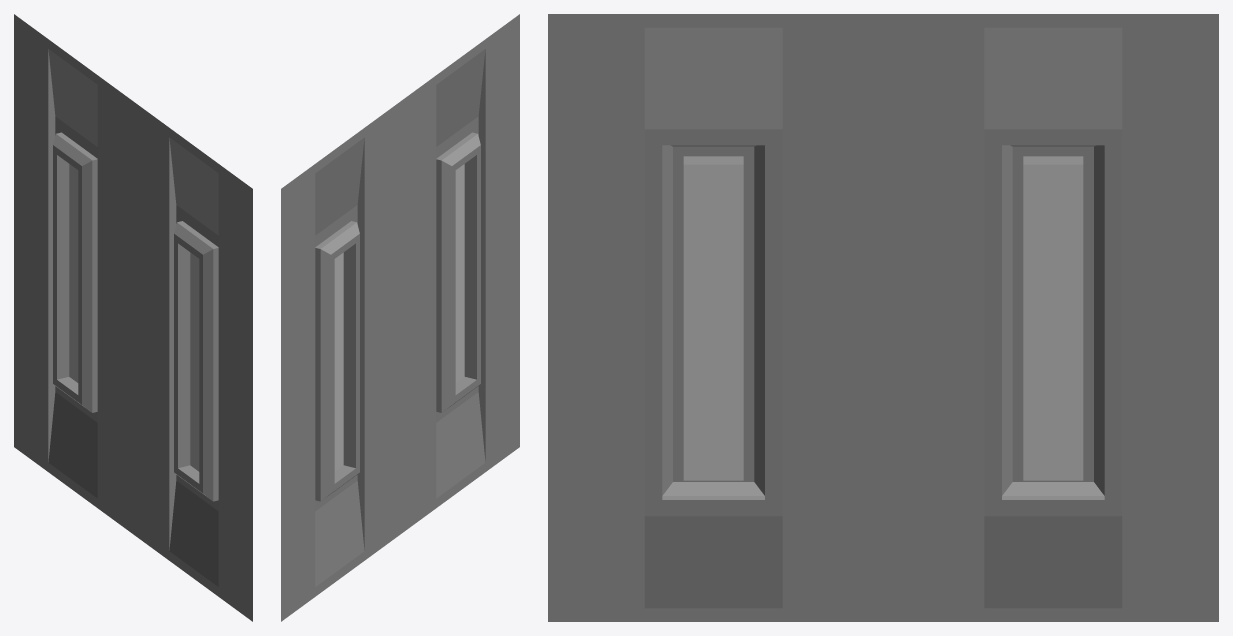
File: Wall_04.FBX
The picture shows the model from 3 angles, left to right: view 1: azimuth 30°, elevation 25°; view 2: azimuth 150°, elevation 25°; view 3: azimuth 270°, elevation 25°; orthographic projection. The views are drawn at different scales.
Parts seen in each view (by area): view 1: Wall_04_LOD0; view 2: Wall_04_LOD0; view 3: Wall_04_LOD0.
Boxes of the visible parts, x1,y1,x2,y2 form: Wall_04_LOD0: (14,14,252,621); Wall_04_LOD0: (281,14,519,621); Wall_04_LOD0: (548,14,1218,621).
Size of what is drawn, in the model's own units: 5.36 by 180 by 180.
